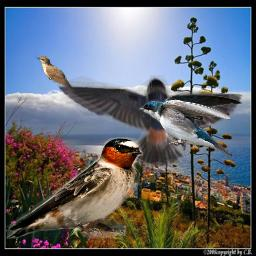Cuckoo: (36, 56, 75, 95)
Swallow: (52, 75, 245, 168), (6, 136, 143, 239), (138, 93, 242, 157)
